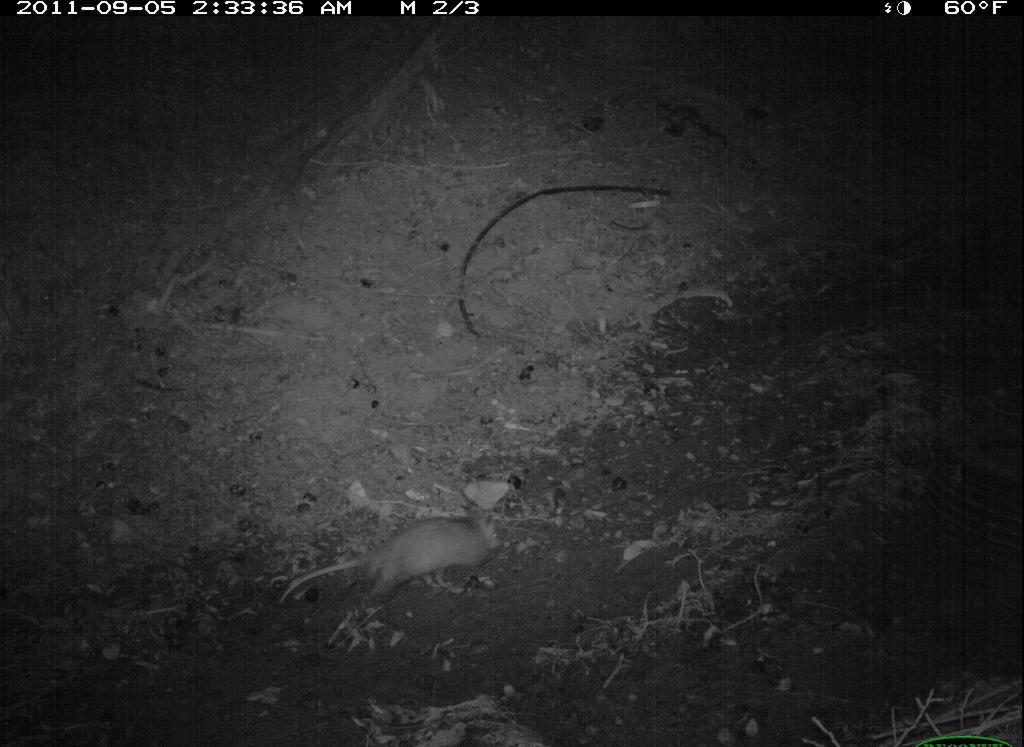opossum: (273, 503, 509, 617)
